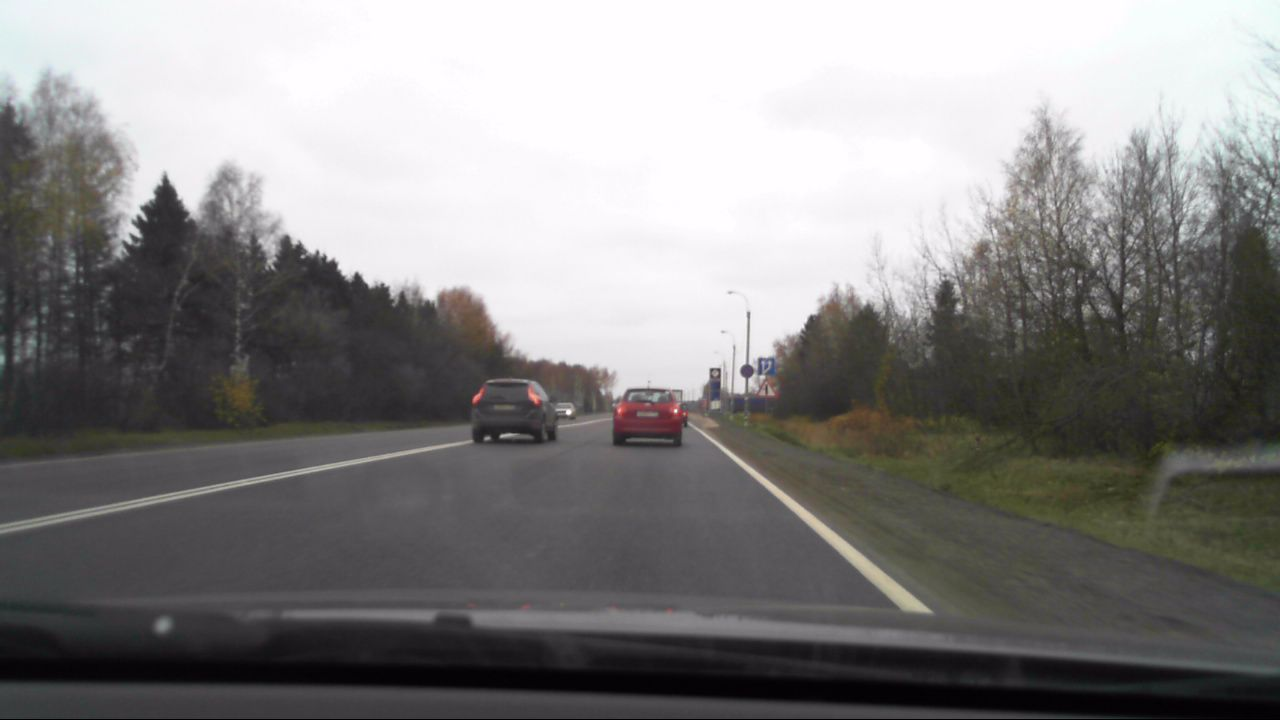No Parking: (738, 362, 755, 379)
